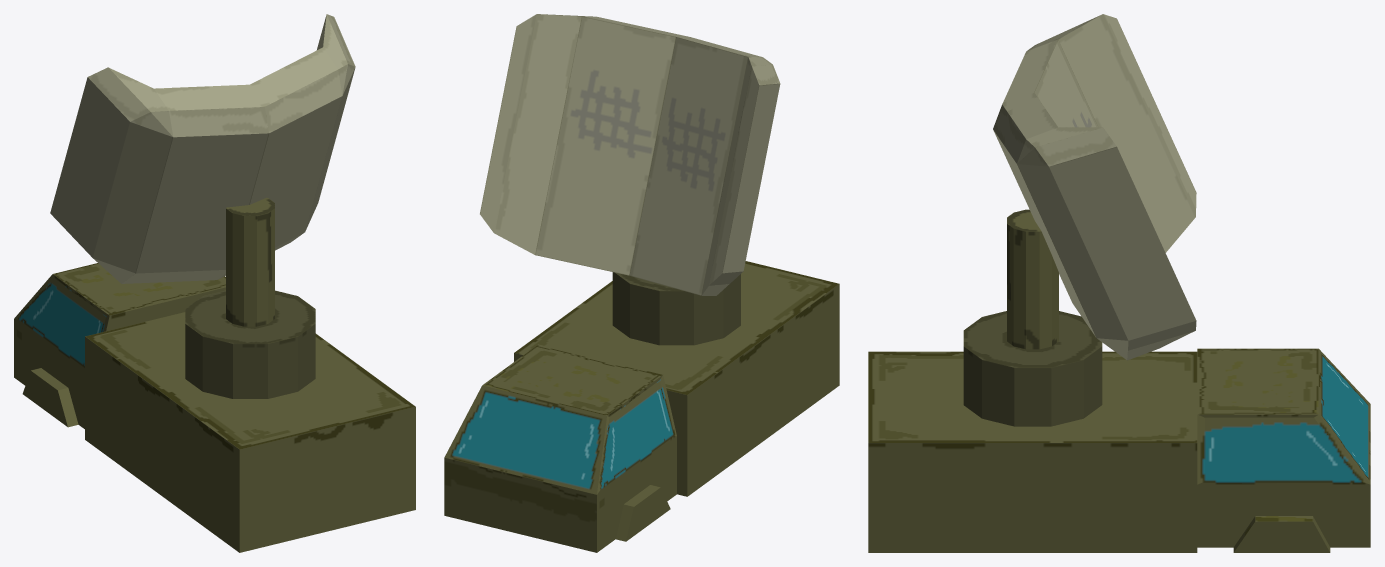
Rendered from reb.fbx.
3 renders of one model, left to right at view 1: azimuth 30°, elevation 25°; view 2: azimuth 150°, elevation 25°; view 3: azimuth 270°, elevation 25°, orthographic. The views are drawn at different scales.
Parts seen in each view (by area): view 1: mesh, beveled_cuboid, mesh_1, cylinder, cylinder_1; view 2: beveled_cuboid, mesh_1, mesh, cylinder; view 3: mesh, beveled_cuboid, mesh_1, cylinder, cylinder_1.
Boxes of the visible parts, <box> form: mesh: <box>85,312,415,552</box>; beveled_cuboid: <box>50,14,355,283</box>; mesh_1: <box>14,263,225,428</box>; cylinder: <box>185,290,315,398</box>; cylinder_1: <box>226,197,274,326</box>; beveled_cuboid: <box>480,14,780,295</box>; mesh_1: <box>444,344,676,552</box>; mesh: <box>514,261,839,496</box>; cylinder: <box>612,272,740,345</box>; mesh: <box>868,351,1197,552</box>; beveled_cuboid: <box>993,14,1196,360</box>; mesh_1: <box>1197,348,1370,552</box>; cylinder: <box>963,311,1102,426</box>; cylinder_1: <box>1007,209,1058,349</box>.
Size of the model in its own units: 109 by 174 by 181.
1 material, 1 textured.
